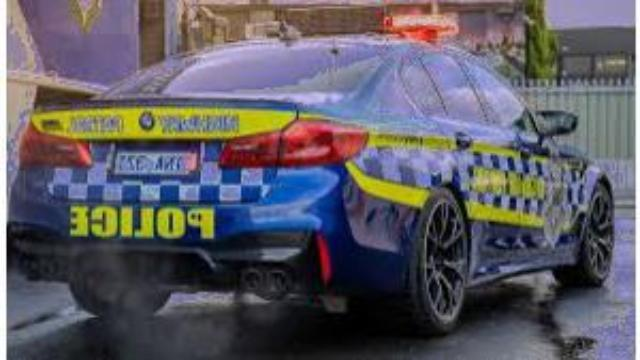police_car: (9, 17, 617, 339)
